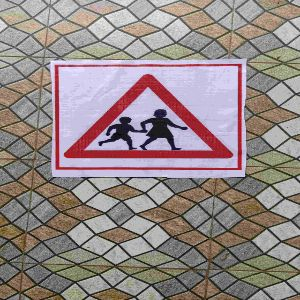schools: (58, 68, 242, 170)
